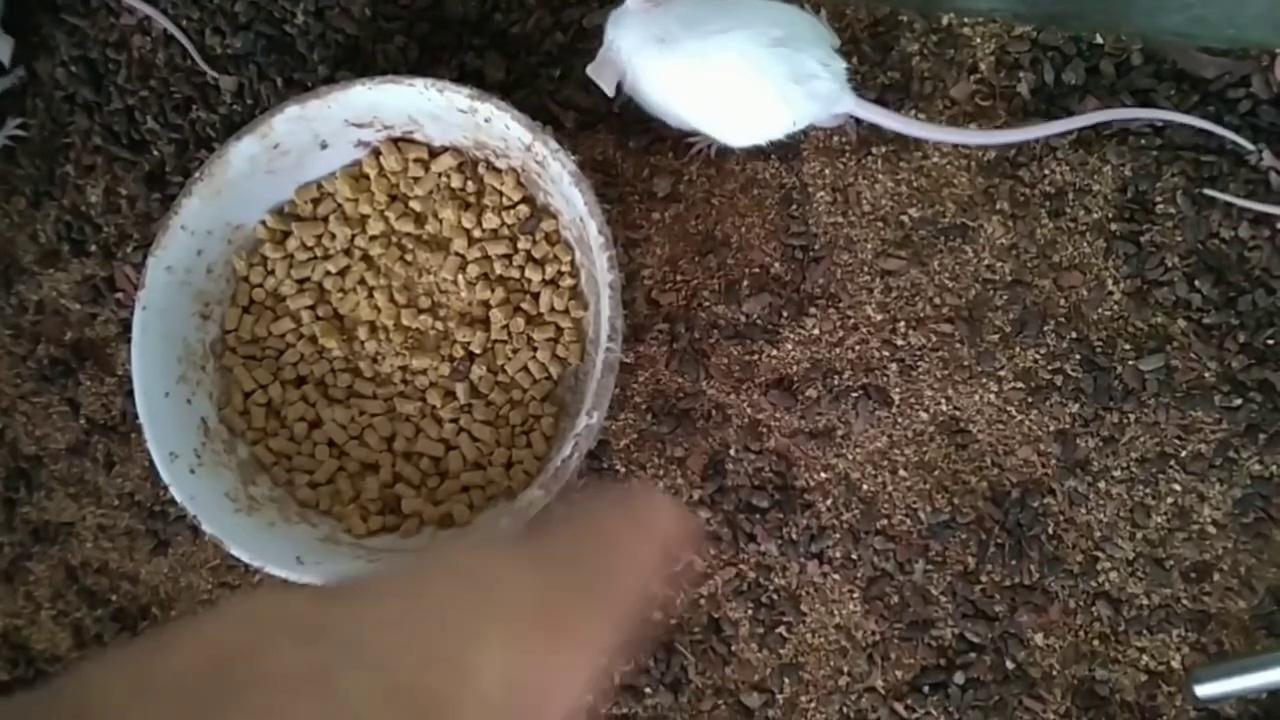rat: (587, 0, 1255, 162)
